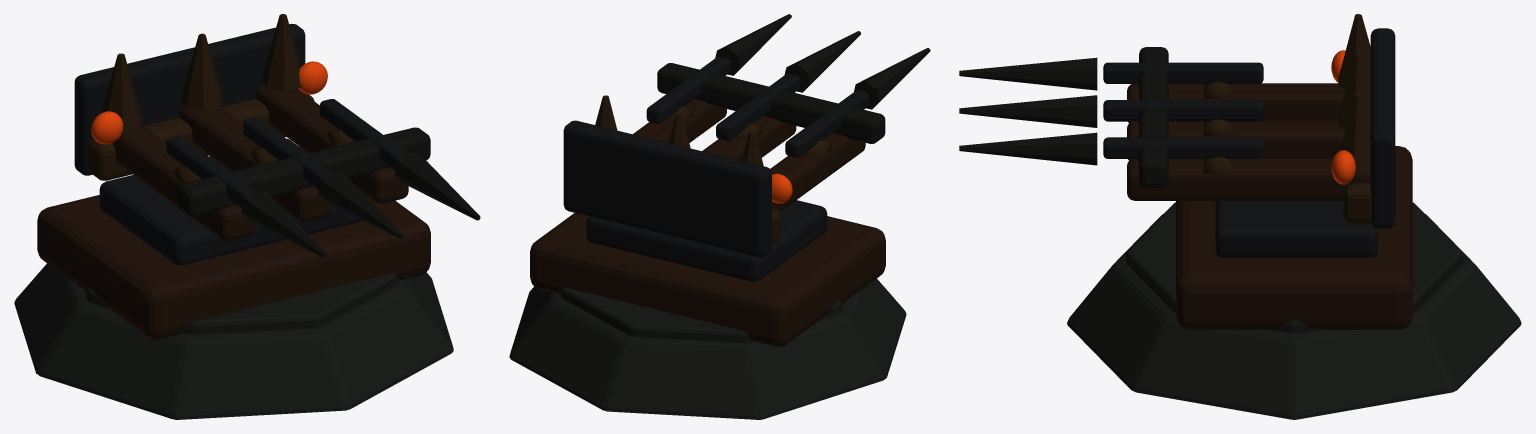
File: TowerKing2_pose.obj
The picture shows the model from 3 angles, left to right: view 1: azimuth 30°, elevation 25°; view 2: azimuth 150°, elevation 25°; view 3: azimuth 270°, elevation 25°; orthographic projection. The views are drawn at different scales.
Visible parts, largest first — view 1: polished_stone_socket_lower_course, royal_oak_deck, iron_royal_mantle, iron_royal_turntable, polished_stone_socket_upper_course, royal_bow_stock, royal_bow_stock.002, royal_bow_stock.001, bronze_crown_rail, royal_bow_limb, royal_bolt.001, royal_bolt (+11 smaller); view 2: polished_stone_socket_lower_course, royal_oak_deck, iron_royal_mantle, iron_royal_turntable, polished_stone_socket_upper_course, royal_bow_stock, royal_bow_limb, royal_iron_guide, royal_iron_guide.002, royal_iron_guide.001, royal_bow_limb.002, royal_bow_limb.001 (+9 smaller); view 3: polished_stone_socket_lower_course, royal_oak_deck, iron_royal_turntable, royal_bow_stock.002, polished_stone_socket_upper_course, iron_royal_mantle, royal_bow_stock.001, royal_bow_stock, royal_iron_guide, royal_iron_guide.002, royal_iron_guide.001, royal_bolt.002 (+10 smaller).
Part boxes in pixels (left/top/right/bottom): polished_stone_socket_lower_course: left=14, top=263, right=453, bottom=419; royal_oak_deck: left=37, top=146, right=430, bottom=339; iron_royal_mantle: left=74, top=23, right=305, bottom=175; iron_royal_turntable: left=99, top=138, right=362, bottom=264; polished_stone_socket_upper_course: left=84, top=273, right=396, bottom=334; royal_bow_stock: left=112, top=124, right=255, bottom=241; royal_bow_stock.002: left=255, top=85, right=408, bottom=203; royal_bow_stock.001: left=179, top=105, right=331, bottom=222; bronze_crown_rail: left=87, top=88, right=314, bottom=180; royal_bow_limb: left=178, top=165, right=273, bottom=217; royal_bolt.001: left=318, top=171, right=403, bottom=239; royal_bolt: left=241, top=189, right=326, bottom=257; polished_stone_socket_lower_course: left=509, top=278, right=906, bottom=419; royal_oak_deck: left=530, top=213, right=885, bottom=346; iron_royal_mantle: left=563, top=120, right=771, bottom=257; iron_royal_turntable: left=586, top=200, right=827, bottom=281; polished_stone_socket_upper_course: left=561, top=287, right=843, bottom=342; royal_bow_stock: left=770, top=133, right=865, bottom=211; royal_bow_limb: left=799, top=97, right=885, bottom=143; royal_iron_guide: left=785, top=90, right=869, bottom=157; royal_iron_guide.002: left=646, top=56, right=730, bottom=123; royal_iron_guide.001: left=716, top=73, right=799, bottom=140; royal_bow_limb.002: left=657, top=63, right=741, bottom=109; royal_bow_limb.001: left=729, top=80, right=810, bottom=126; polished_stone_socket_lower_course: left=1067, top=213, right=1521, bottom=419; royal_oak_deck: left=1176, top=146, right=1412, bottom=329; iron_royal_turntable: left=1215, top=201, right=1377, bottom=257; royal_bow_stock.002: left=1127, top=158, right=1370, bottom=200; polished_stone_socket_upper_course: left=1125, top=202, right=1462, bottom=333; iron_royal_mantle: left=1370, top=28, right=1395, bottom=228; royal_bow_stock.001: left=1127, top=120, right=1345, bottom=160; royal_bow_stock: left=1127, top=83, right=1345, bottom=122; royal_iron_guide: left=1103, top=62, right=1263, bottom=83; royal_iron_guide.002: left=1103, top=137, right=1263, bottom=158; royal_iron_guide.001: left=1103, top=100, right=1263, bottom=121; royal_bolt.002: left=959, top=132, right=1097, bottom=165.
Size of the model in its own units: 1.85 by 1.21 by 2.28.
